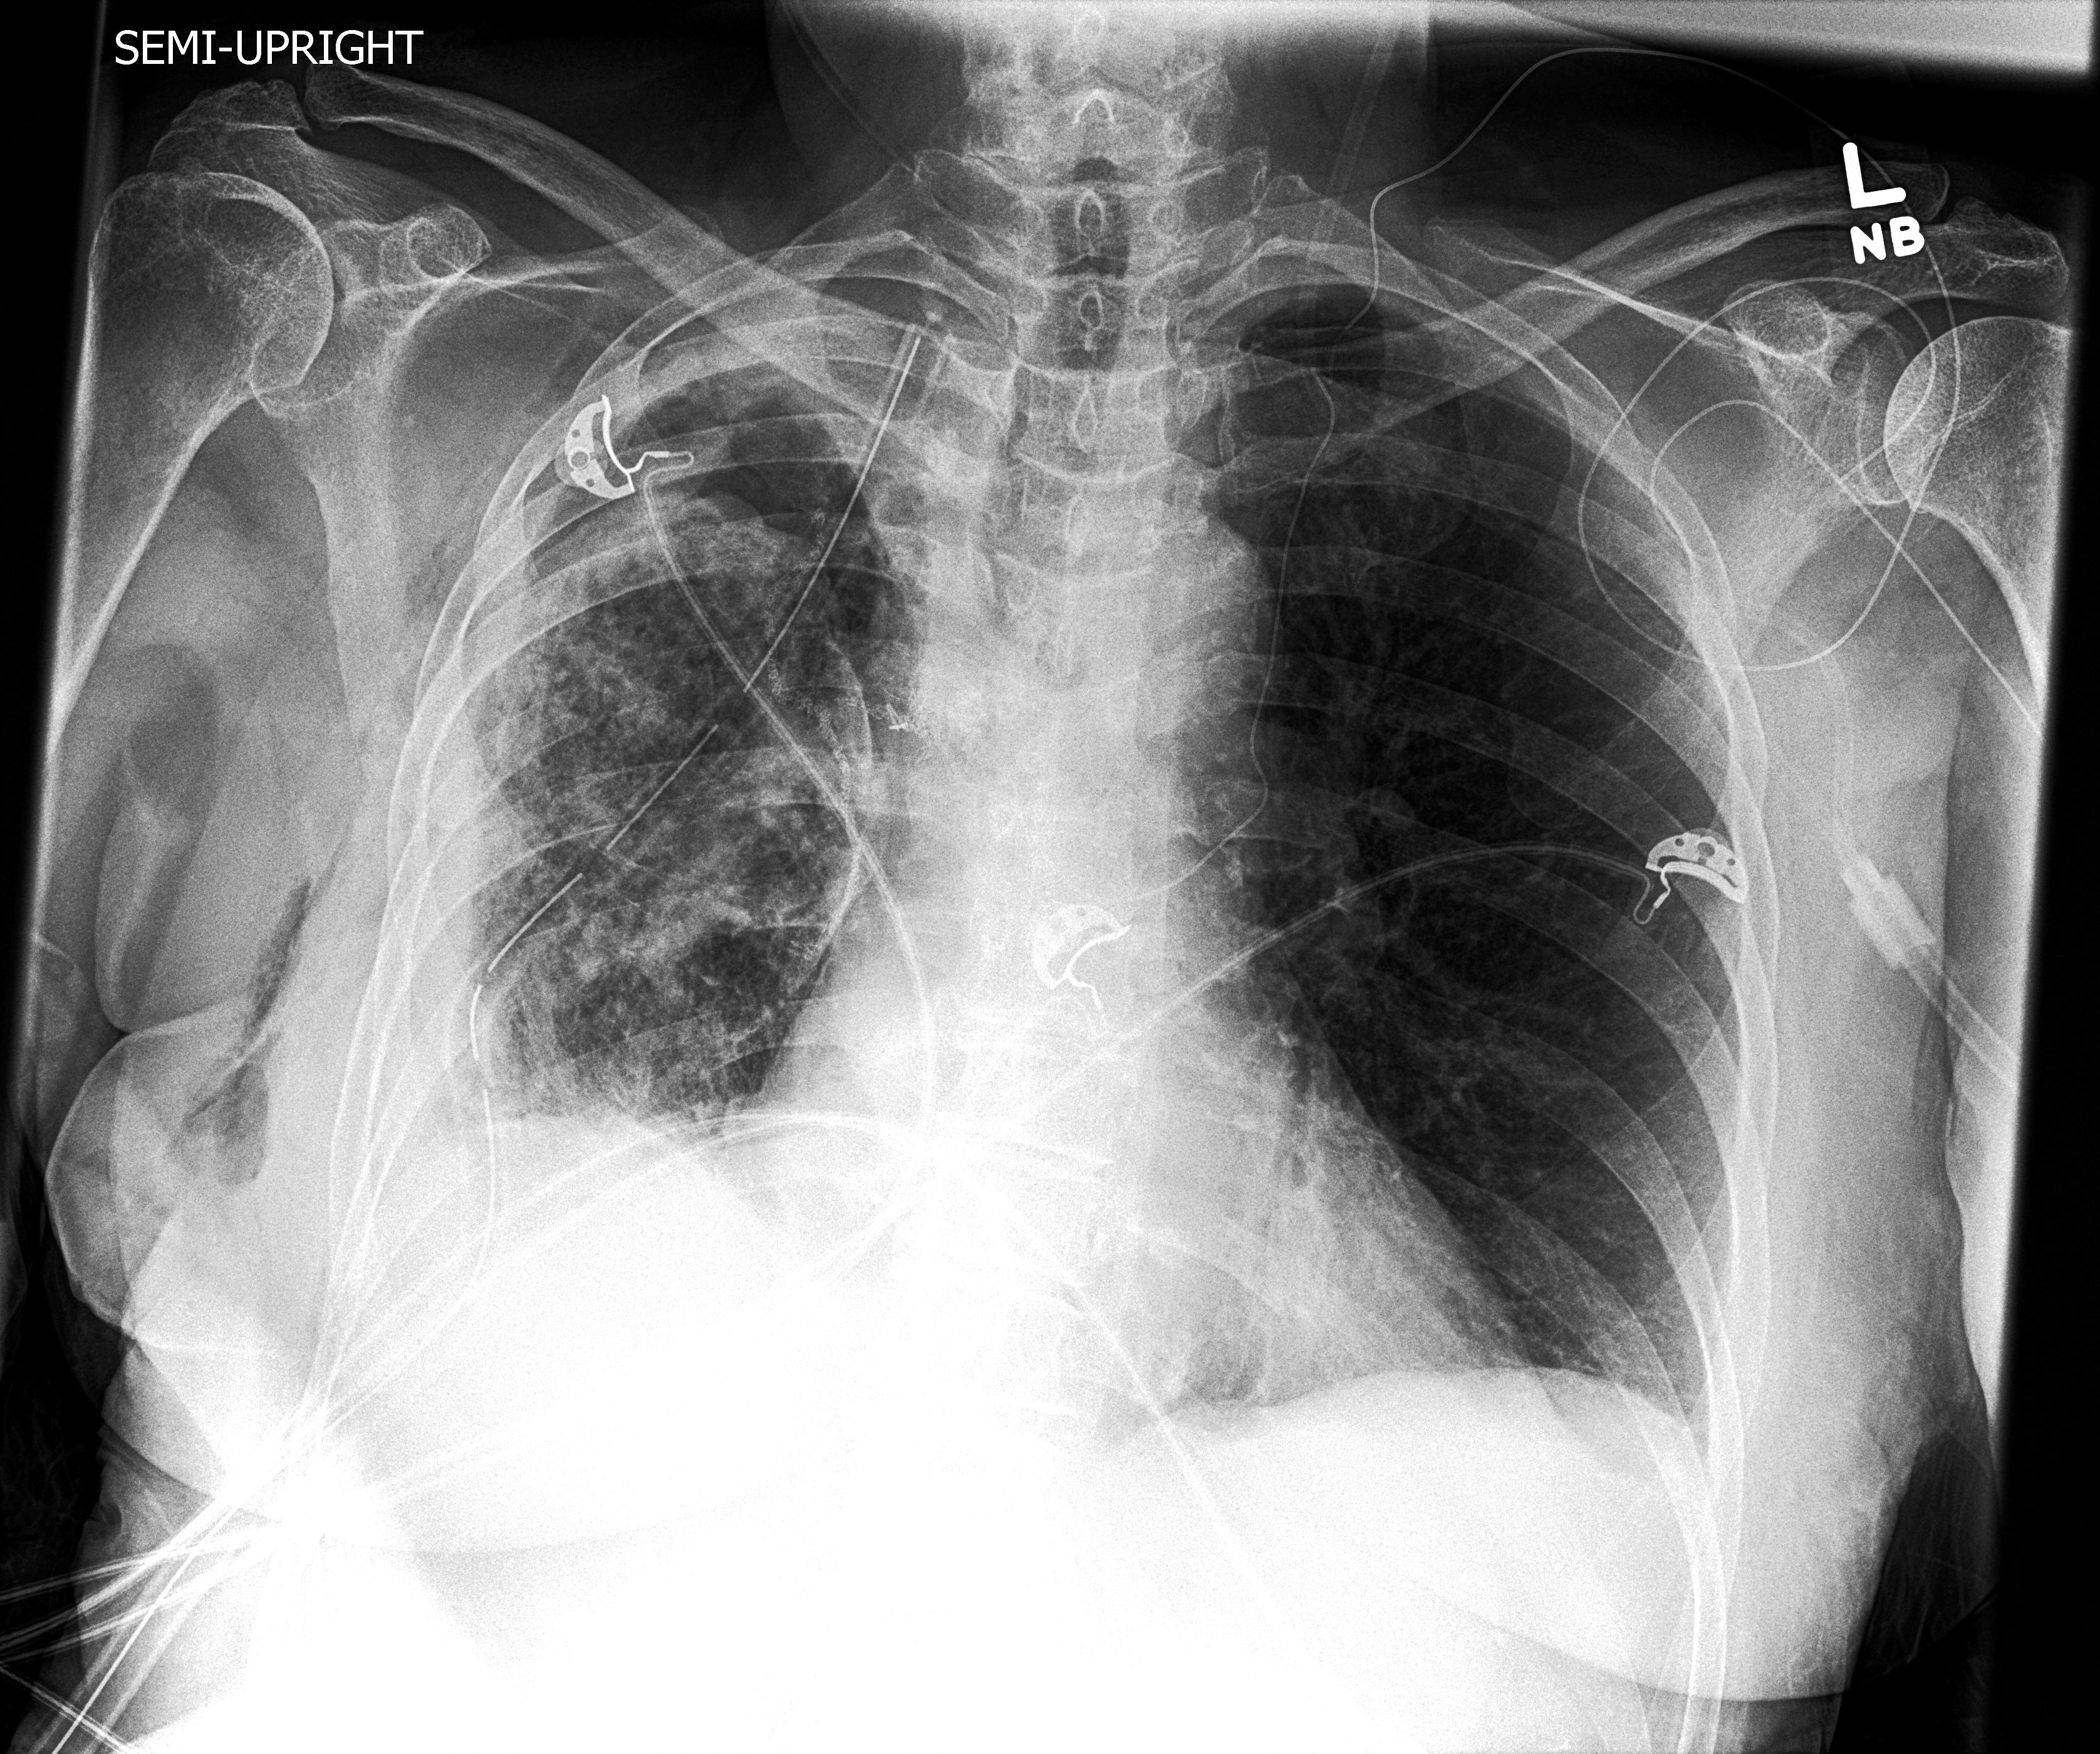Pleural Effusion: (321, 1074, 637, 1487)
